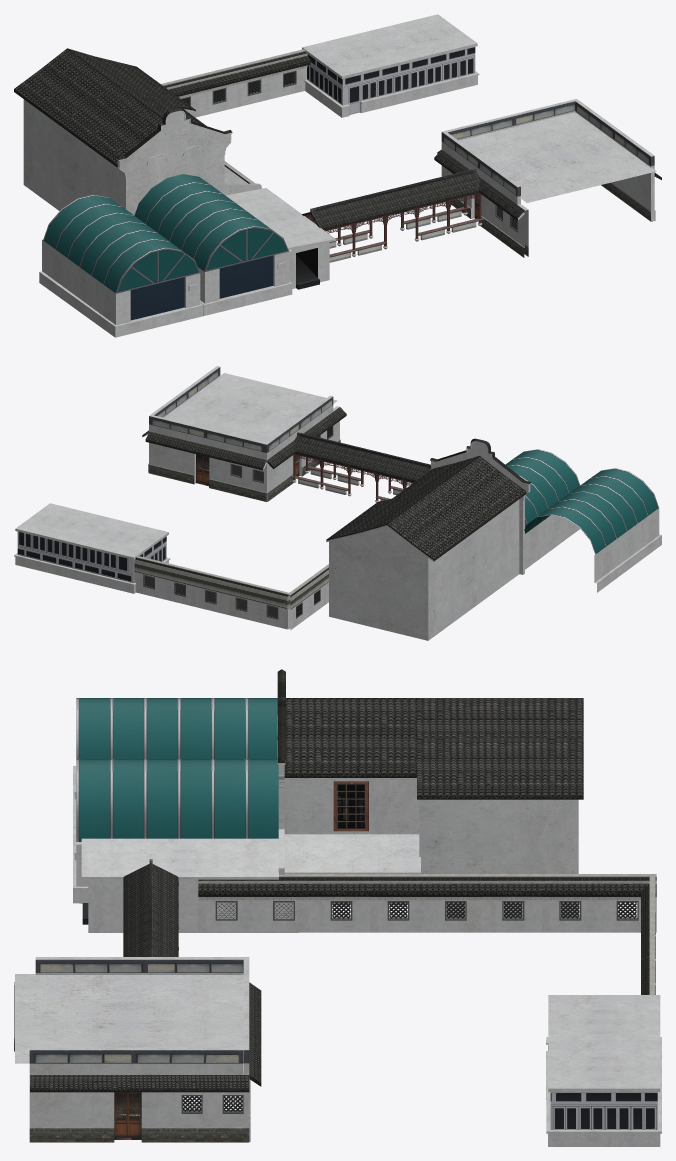
The model's file is Building_Guiyuan.FBX.
The picture shows the model from 3 angles, top to bottom: view 1: azimuth 30°, elevation 25°; view 2: azimuth 150°, elevation 25°; view 3: azimuth 270°, elevation 25°; orthographic projection. The views are drawn at different scales.
Visible parts, largest first — view 1: Building_Guiyuan; view 2: Building_Guiyuan; view 3: Building_Guiyuan.
Boxes of the visible parts, left/top/right/bottom form: Building_Guiyuan: left=14, top=14, right=661, bottom=337; Building_Guiyuan: left=14, top=366, right=661, bottom=640; Building_Guiyuan: left=14, top=669, right=661, bottom=1146.
Bounding box in the file's own units: 4551 × 1157 × 3400.
